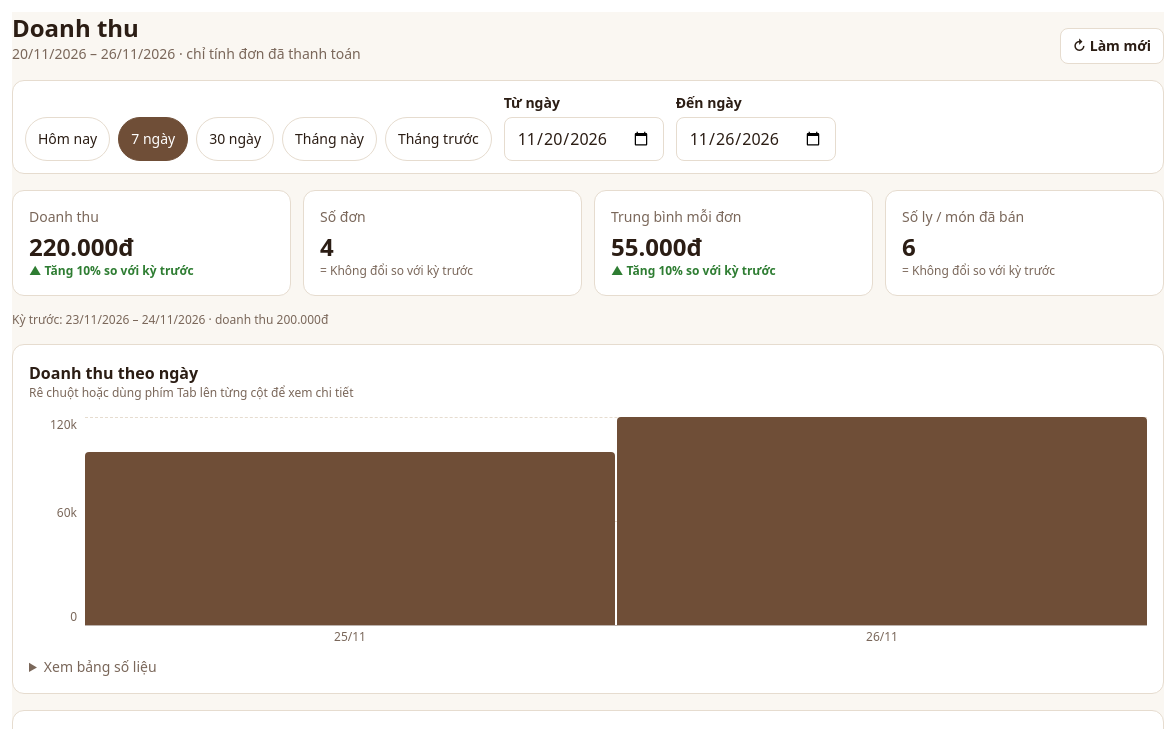
Test: Dashboard doanh thu (UC08) › rê chuột lên cột → tooltip ngày, doanh thu, số đơn
This screenshot has width=1176, height=729.
Expected: the heading "Doanh thu theo ngày" is shown, x1=29 y1=362 x2=198 y2=384
Hover over the list item named "T4 25/11/2026: 100.000đ, 2 đơn" at {"x": 350, "y": 521}, box x1=85 y1=417 x2=615 y2=625
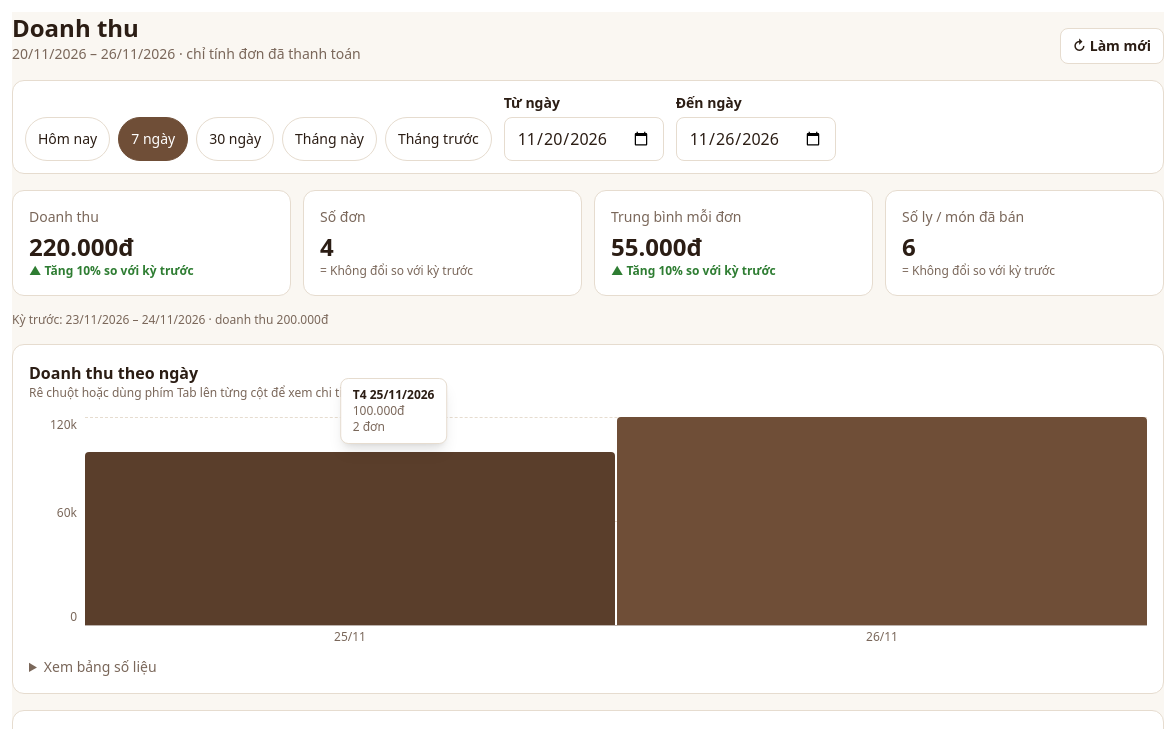
Now the message shows "T4 25/11/2026", box x1=353 y1=386 x2=434 y2=403
Now the message shows "100.000đ", box x1=353 y1=402 x2=404 y2=419
Now the message shows "2 đơn", box x1=353 y1=418 x2=385 y2=435
